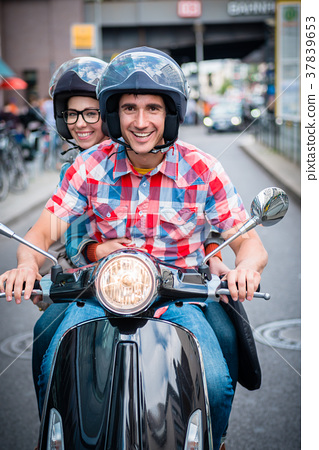helmet: (99, 48, 191, 116), (39, 52, 112, 113)
